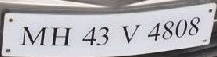character: (22, 24, 47, 48), (49, 25, 72, 47), (121, 24, 141, 43), (81, 26, 97, 46), (174, 18, 188, 39), (95, 26, 109, 45), (146, 22, 160, 41), (187, 15, 200, 35), (161, 20, 174, 39)
